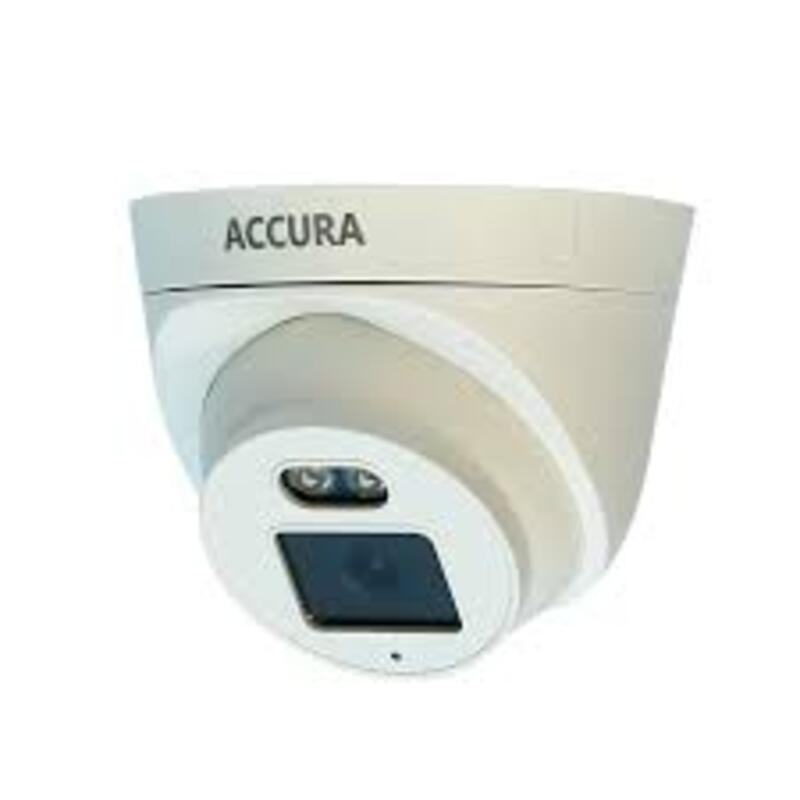turret: (111, 181, 708, 691)
